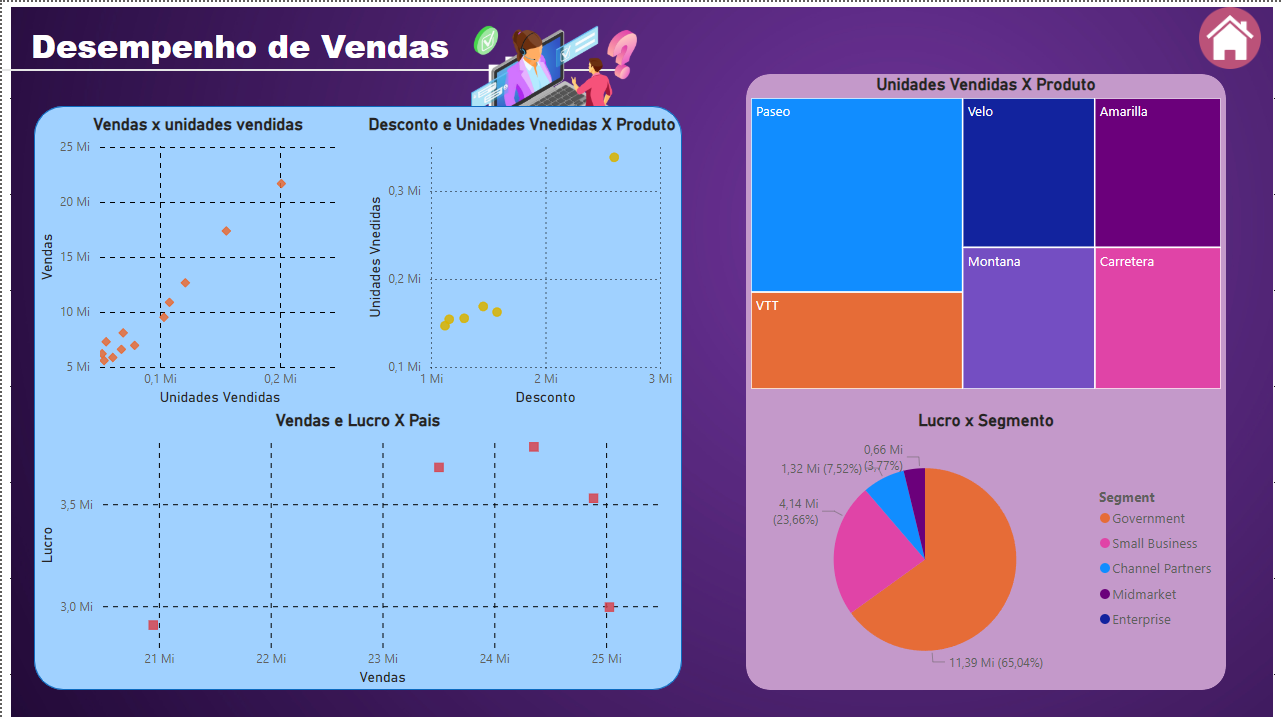

The page's visual inventory and layout, read from the dashboard file:
{"tool":"powerbi","page":{"name":"Página 3","canvas":[1280,720],"ordinal":4},"visuals":[{"type":"image","box":[0,0,1280,720],"z":0},{"type":"shape","box":[0,0,624,136],"z":500},{"type":"image","box":[464,0,176,184],"z":1000},{"type":"shape","box":[32,104,648,584],"z":1500},{"type":"shape","box":[744,72,480,616],"z":1750},{"type":"scatterChart","title":"Vendas x unidades vendidas","fields":{"X":["Sum(financials.Units Sold)"],"Y":["Sum(financials.Sales)"],"Category":["financials.Date.Variation.Hierarquia de datas.Mês"]},"box":[32,112,328,296],"z":2000},{"type":"scatterChart","title":"Vendas e Lucro X Pais","fields":{"Category":["financials.Country"],"X":["Sum(financials.Sales)"],"Y":["Sum(financials.Profit)"]},"box":[32,408,648,280],"z":3000},{"type":"treemap","title":"Unidades Vendidas X Produto","fields":{"Group":["financials.Product"],"Values":["Sum(financials.Units Sold)"]},"box":[744,72,480,320],"z":4000},{"type":"pieChart","title":"Lucro x Segmento","fields":{"Category":["financials.Segment"],"Y":["Sum(financials.Profit)"]},"box":[744,408,480,280],"z":5000},{"type":"scatterChart","title":"Desconto e Unidades Vnedidas X Produto","fields":{"Category":["financials.Product"],"X":["Sum(financials.Discounts)"],"Y":["Sum(financials.Units Sold)"]},"box":[360,112,320,296],"z":6000},{"type":"textbox","box":[24,16,536,88],"z":7000},{"type":"image","box":[1176,0,104,72],"z":7001},{"type":"actionButton","box":[1176,0,104,72],"z":7002}]}

Visuals, with their boxes in screenshot pixels (x1, y1, x2, y2), scaled from the page's 1280x720 canvas onto the 1282x719 screenshot:
image: [left=0, top=0, right=1281, bottom=718]
shape: [left=0, top=0, right=625, bottom=136]
image: [left=465, top=0, right=641, bottom=184]
shape: [left=32, top=104, right=681, bottom=687]
shape: [left=745, top=72, right=1226, bottom=687]
"Vendas x unidades vendidas" scatterChart: [left=32, top=112, right=361, bottom=407]
"Vendas e Lucro X Pais" scatterChart: [left=32, top=407, right=681, bottom=687]
"Unidades Vendidas X Produto" treemap: [left=745, top=72, right=1226, bottom=391]
"Lucro x Segmento" pieChart: [left=745, top=407, right=1226, bottom=687]
"Desconto e Unidades Vnedidas X Produto" scatterChart: [left=361, top=112, right=681, bottom=407]
textbox: [left=24, top=16, right=561, bottom=104]
image: [left=1178, top=0, right=1281, bottom=72]
actionButton: [left=1178, top=0, right=1281, bottom=72]
